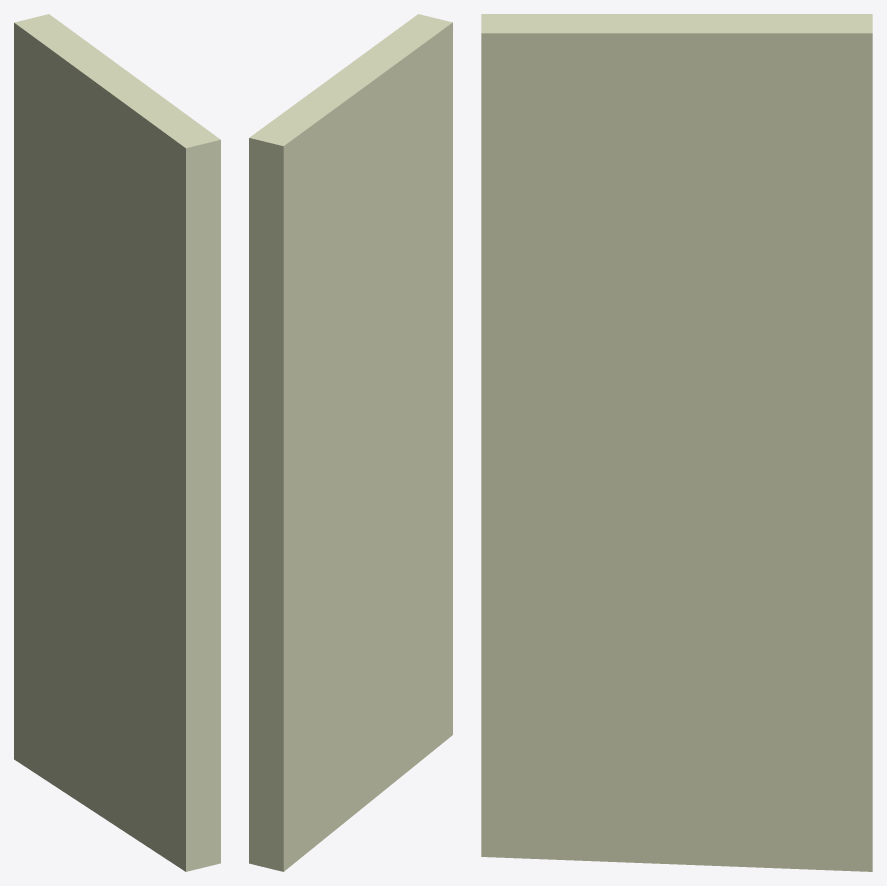
Rendered from RightDoor.fbx.
3 renders of one model, left to right at view 1: azimuth 30°, elevation 25°; view 2: azimuth 150°, elevation 25°; view 3: azimuth 270°, elevation 25°, orthographic. The views are drawn at different scales.
Parts seen in each view (by area): view 1: Door_left; view 2: Door_left; view 3: Door_left.
Boxes of the visible parts, <box> form: Door_left: <box>14,14,220,871</box>; Door_left: <box>249,14,452,871</box>; Door_left: <box>481,14,872,871</box>.
Size of the model in its own units: 3.95 by 79.42 by 33.57.
